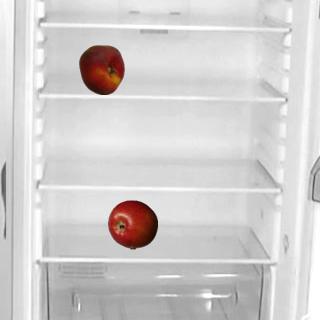Apple Braeburn: (107, 199, 157, 249)
Nectarine Flat: (76, 44, 126, 94)
